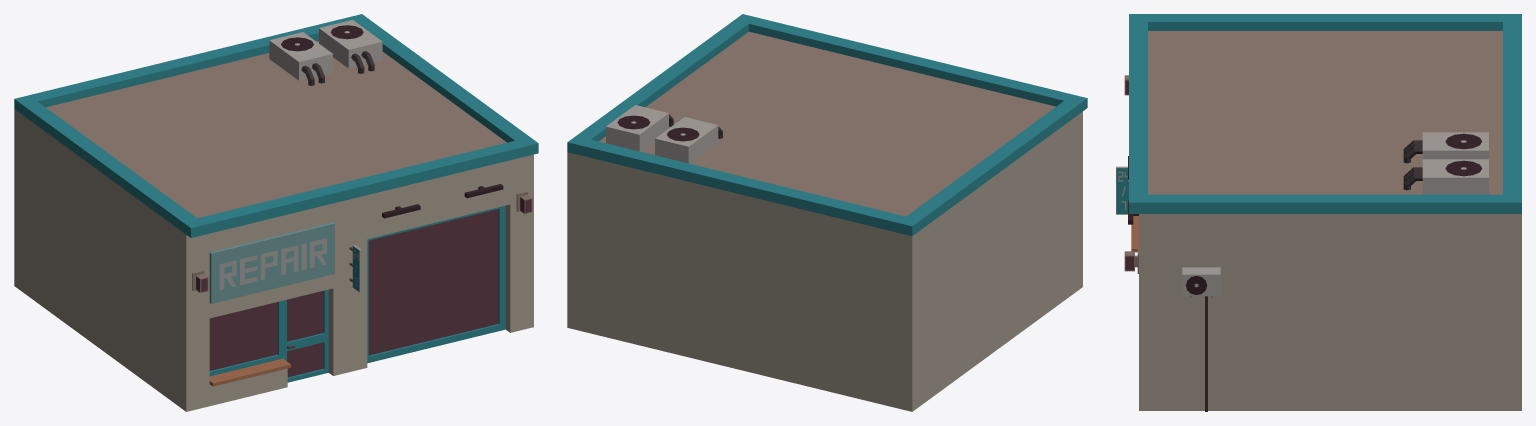
Rendered from Building_12.fbx.
The picture shows the model from 3 angles, left to right: view 1: azimuth 30°, elevation 25°; view 2: azimuth 150°, elevation 25°; view 3: azimuth 270°, elevation 25°; orthographic projection. The views are drawn at different scales.
Parts seen in each view (by area): view 1: Building_12, Building_12LP; view 2: Building_12; view 3: Building_12.
Part boxes in pixels (x1,y1,x2,y2): Building_12: (14, 14, 538, 411); Building_12LP: (196, 198, 531, 377); Building_12: (567, 14, 1087, 411); Building_12: (1116, 14, 1521, 411).
Bounding box in the file's own units: 11.38 × 5.95 × 9.94.
